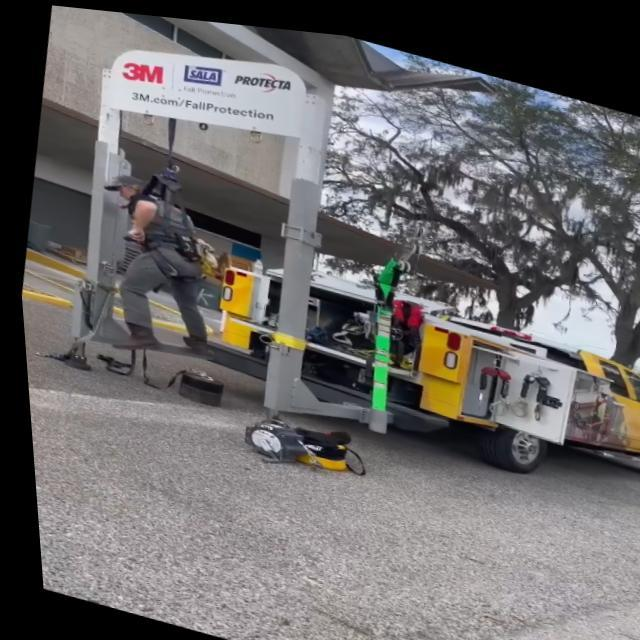belt: (100, 142, 223, 288)
